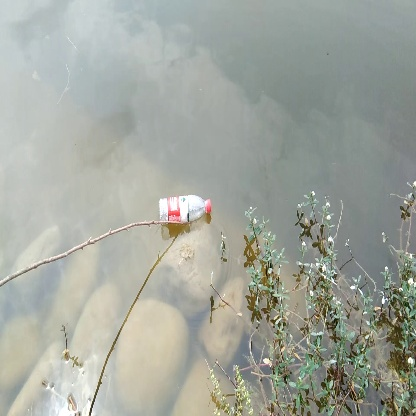bottle: (154, 191, 215, 227)
